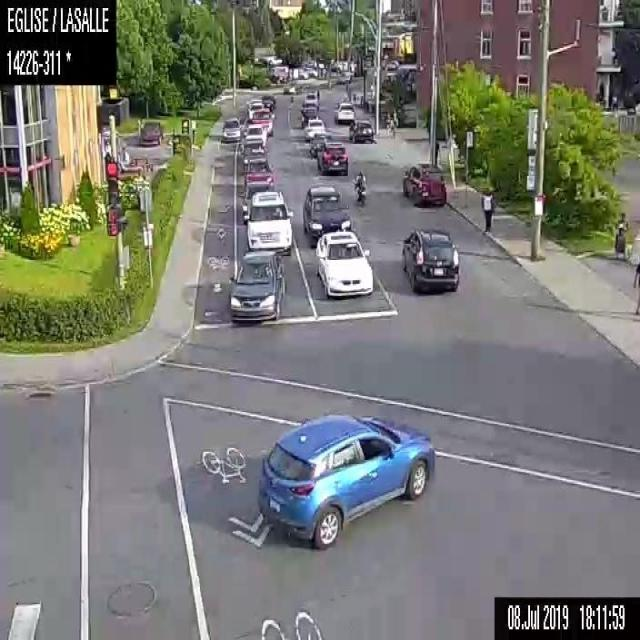cyclist: (353, 167, 367, 205)
pedestrian: (478, 188, 495, 233), (614, 209, 628, 260), (384, 110, 397, 138), (632, 266, 639, 314), (433, 137, 439, 167)
vehicle: (258, 411, 434, 553), (227, 247, 284, 324), (313, 230, 373, 299), (399, 227, 459, 292), (241, 189, 294, 254), (300, 183, 353, 246), (400, 160, 445, 207), (238, 158, 275, 197), (316, 142, 348, 176), (240, 138, 270, 172), (247, 107, 273, 135), (347, 119, 374, 141), (138, 119, 161, 144), (243, 123, 268, 146), (308, 132, 330, 158), (220, 115, 241, 141), (302, 118, 326, 138), (334, 100, 354, 122), (300, 108, 318, 126), (304, 88, 319, 106)
